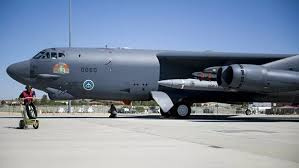maybay_muctieu: (16, 46, 299, 118)
ten_lua: (160, 76, 230, 96)
